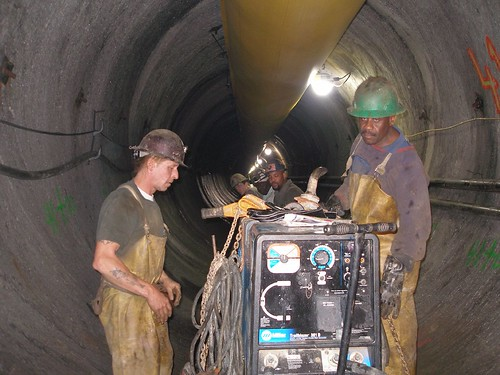person hardhat: (336, 73, 432, 375), (95, 127, 194, 375), (258, 156, 312, 218), (230, 167, 264, 210)
